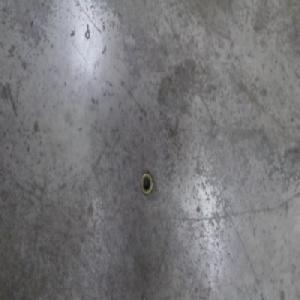Nut: (140, 171, 153, 197)
